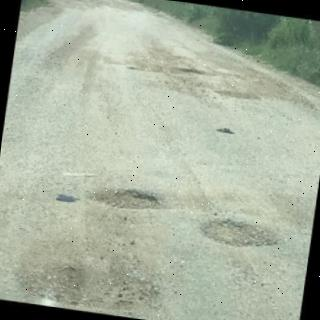pothole: (23, 266, 160, 314), (202, 218, 277, 248), (86, 189, 161, 210)
